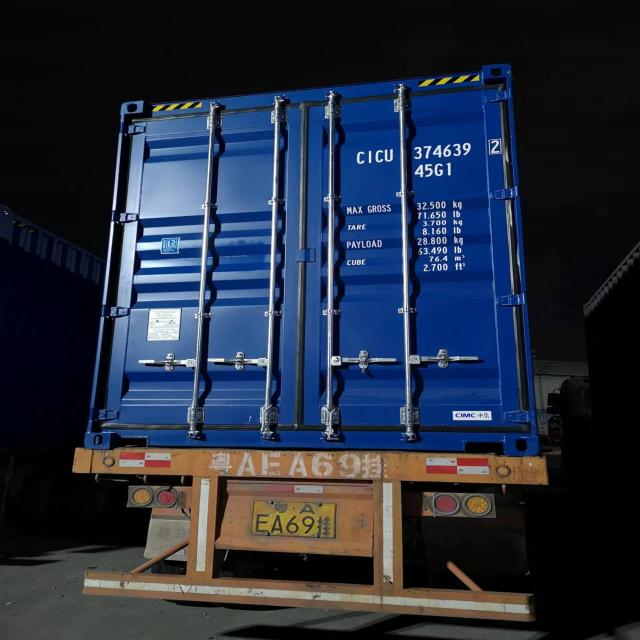seal: (357, 348, 378, 382)
